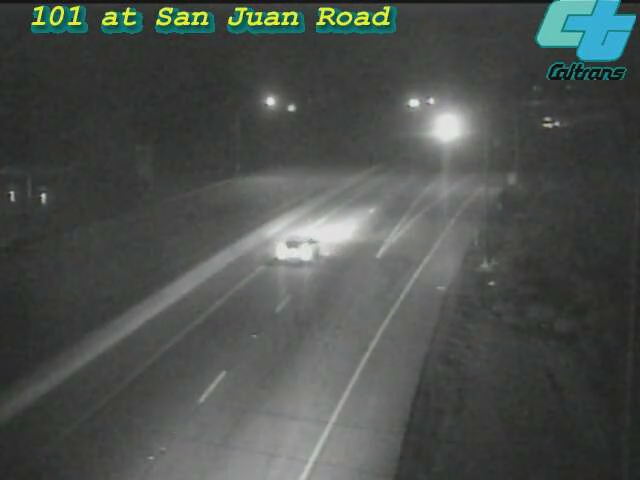vehicle: (250, 212, 330, 292), (418, 104, 468, 154), (530, 96, 580, 146)
